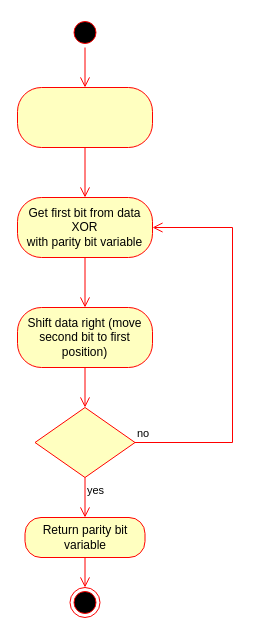
The diagram is 260 pixels wide and 635 high, and some of its shapes have lost their labels. Each missing label, with the box of its shape:
Last bit: (34, 406, 135, 478)
Set parity bit variable to "type", (0 if even, 1 if odd): (16, 86, 152, 148)
